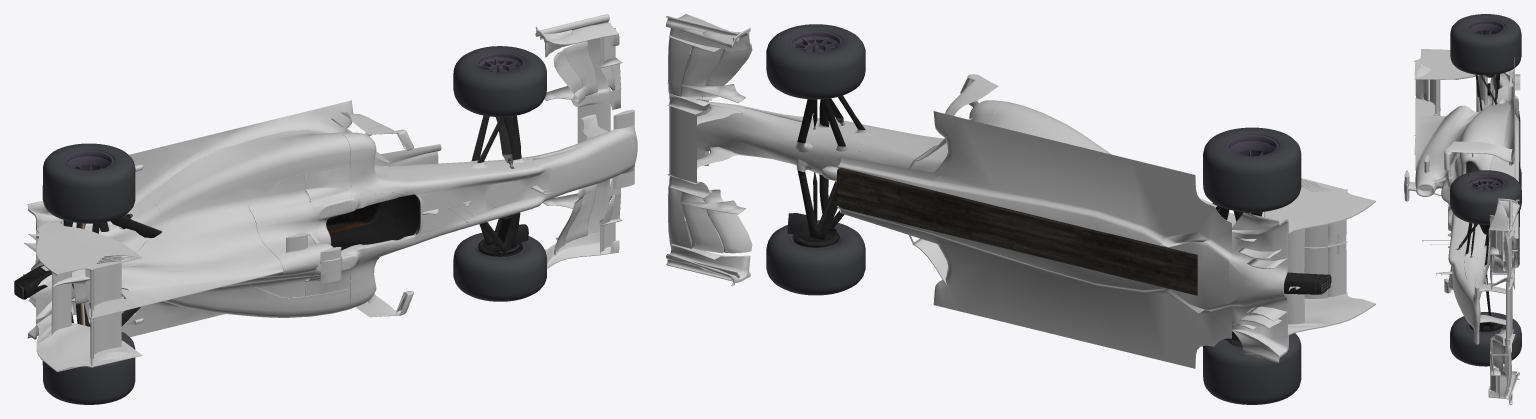
The model's file is Car.obj.
3 renders of one model, left to right at view 1: azimuth 30°, elevation 25°; view 2: azimuth 150°, elevation 25°; view 3: azimuth 270°, elevation 25°, orthographic. The views are drawn at different scales.
Visible parts, largest first — view 1: object__57.003, object__24.003, object__58.003, object__22.003, object__0.004, object__23.003, object__52.003, object__55.003, object__54.003, object__50.003, object__48.003, object__46.003 (+21 smaller); view 2: object__57.003, object__55.003, object__0.004, object__16.004, object__22.003, object__52.003, object__50.003, object__48.003, object__46.003, object__61.003, object__54.003, object__62.003 (+15 smaller); view 3: object__57.003, object__58.003, object__52.003, object__0.004, object__22.003, object__24.003, object__48.003, object__54.003, object__46.003, object__47.003, object__51.003, object__31.003 (+18 smaller).
Boxes of the visible parts, x1,y1,x2,y2 form: object__57.003: (23, 100, 532, 337); object__24.003: (38, 129, 350, 288); object__58.003: (85, 209, 283, 318); object__22.003: (522, 109, 637, 208); object__0.004: (535, 22, 619, 268); object__23.003: (39, 279, 350, 317); object__52.003: (42, 156, 135, 223); object__55.003: (14, 194, 418, 299); object__54.003: (36, 221, 142, 275); object__50.003: (42, 337, 135, 404); object__48.003: (453, 59, 546, 115); object__46.003: (453, 246, 546, 300); object__57.003: (807, 109, 1300, 368); object__55.003: (837, 151, 1331, 295); object__0.004: (667, 14, 750, 285); object__16.004: (1229, 212, 1288, 362); object__22.003: (696, 99, 819, 172); object__52.003: (1203, 140, 1301, 212); object__50.003: (1203, 333, 1301, 404); object__48.003: (766, 39, 865, 98); object__46.003: (766, 237, 865, 294); object__61.003: (681, 189, 752, 253); object__54.003: (1263, 178, 1375, 234); object__62.003: (680, 42, 752, 102); object__57.003: (1422, 57, 1519, 289); object__58.003: (1415, 96, 1480, 170); object__52.003: (1450, 24, 1521, 75); object__0.004: (1488, 198, 1519, 399); object__22.003: (1436, 255, 1487, 344); object__24.003: (1460, 85, 1510, 146); object__48.003: (1450, 181, 1521, 223); object__54.003: (1414, 49, 1509, 79); object__46.003: (1450, 325, 1521, 365); object__47.003: (1453, 170, 1518, 224); object__51.003: (1453, 14, 1518, 75); object__31.003: (1444, 141, 1512, 171).
Bounding box in the file's own units: 4.95 × 1.8 × 1.07.
